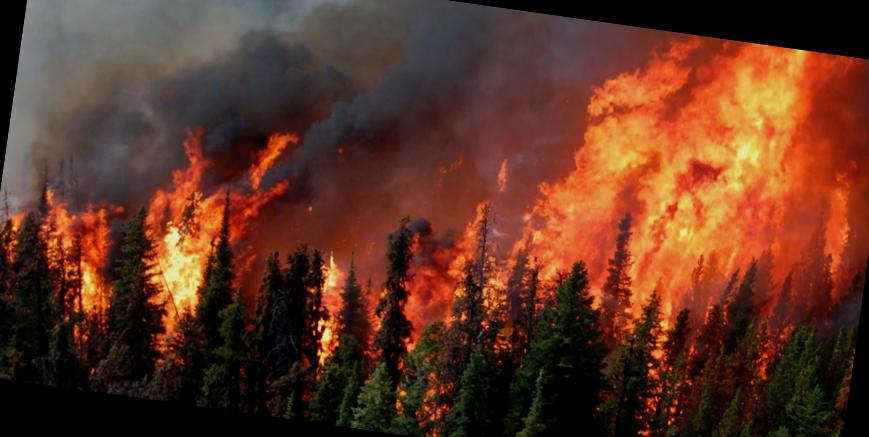fire: (118, 115, 606, 437), (534, 22, 869, 437), (0, 157, 316, 395)
smoke: (0, 0, 576, 260)
